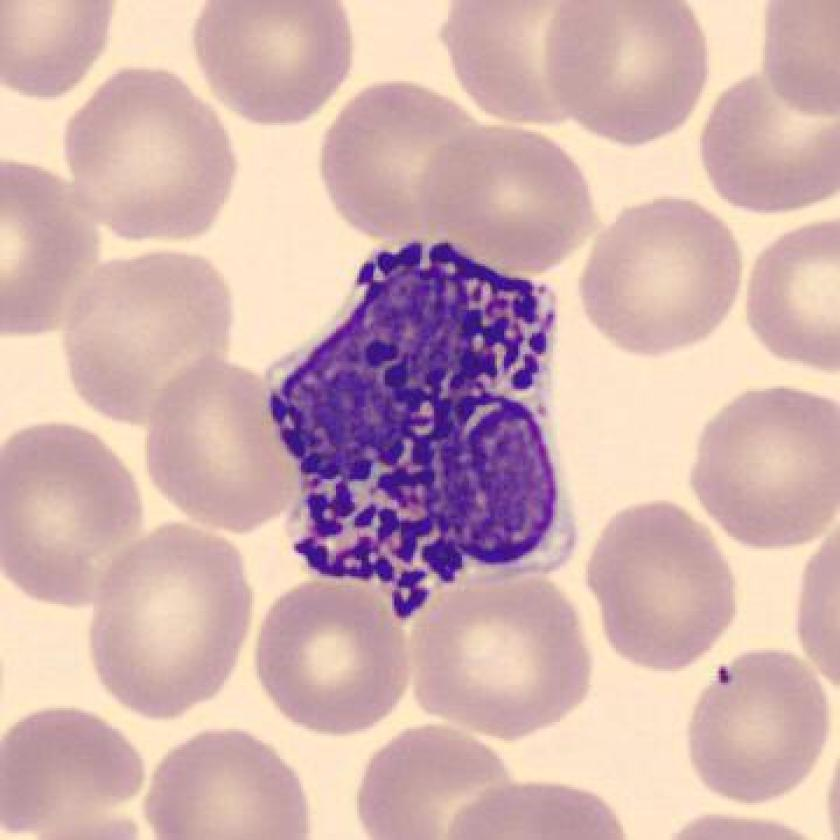basophil: (272, 232, 577, 612)
